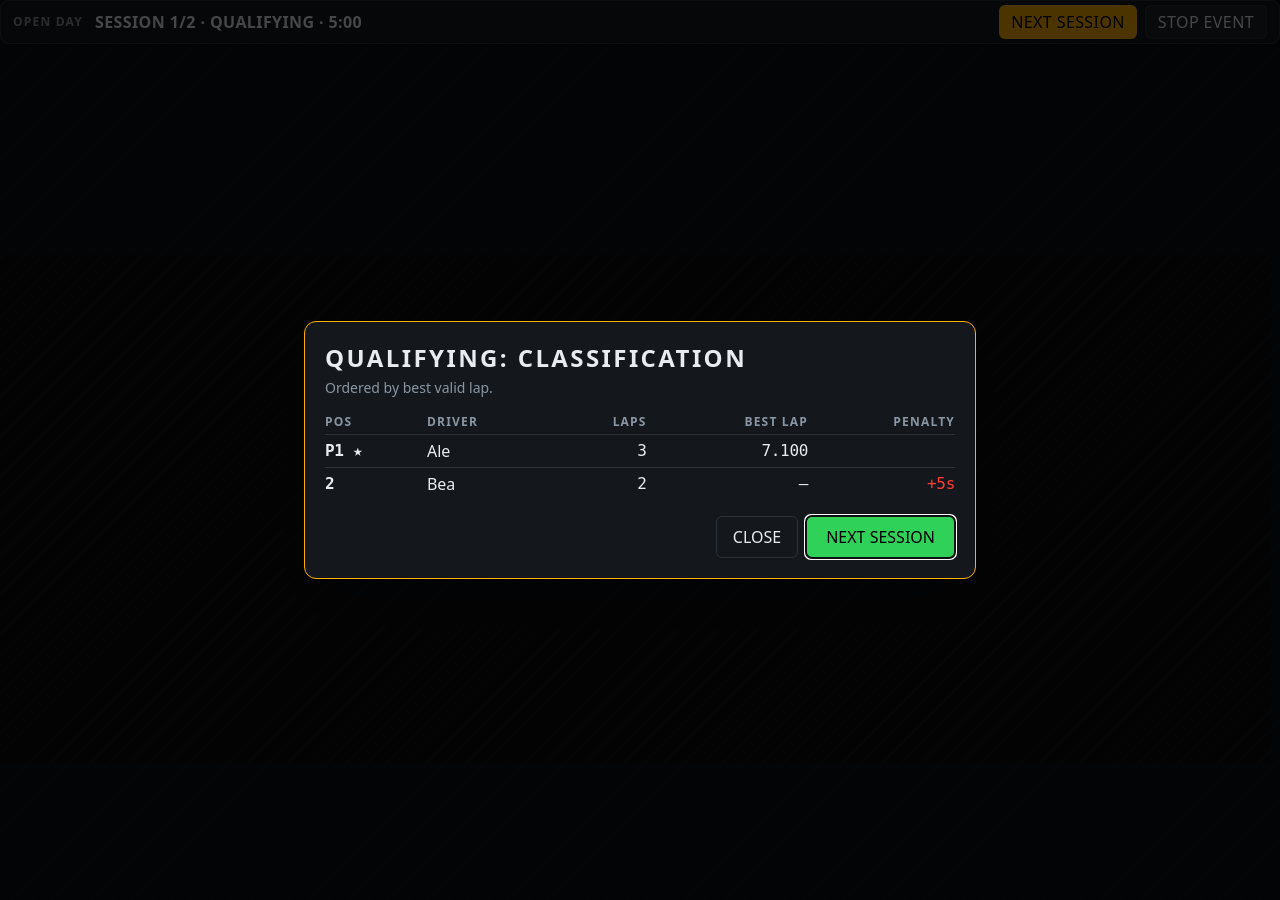
Test case: SessionBar › opens the classification modal on session_finished, then Next session advances
Expected: the table with test id "classification" shows "+5s", top-left (927, 474), bottom-right (955, 493)
Click the button with test id "result-next" at (881, 537), box top-left (806, 516), bottom-right (955, 558)
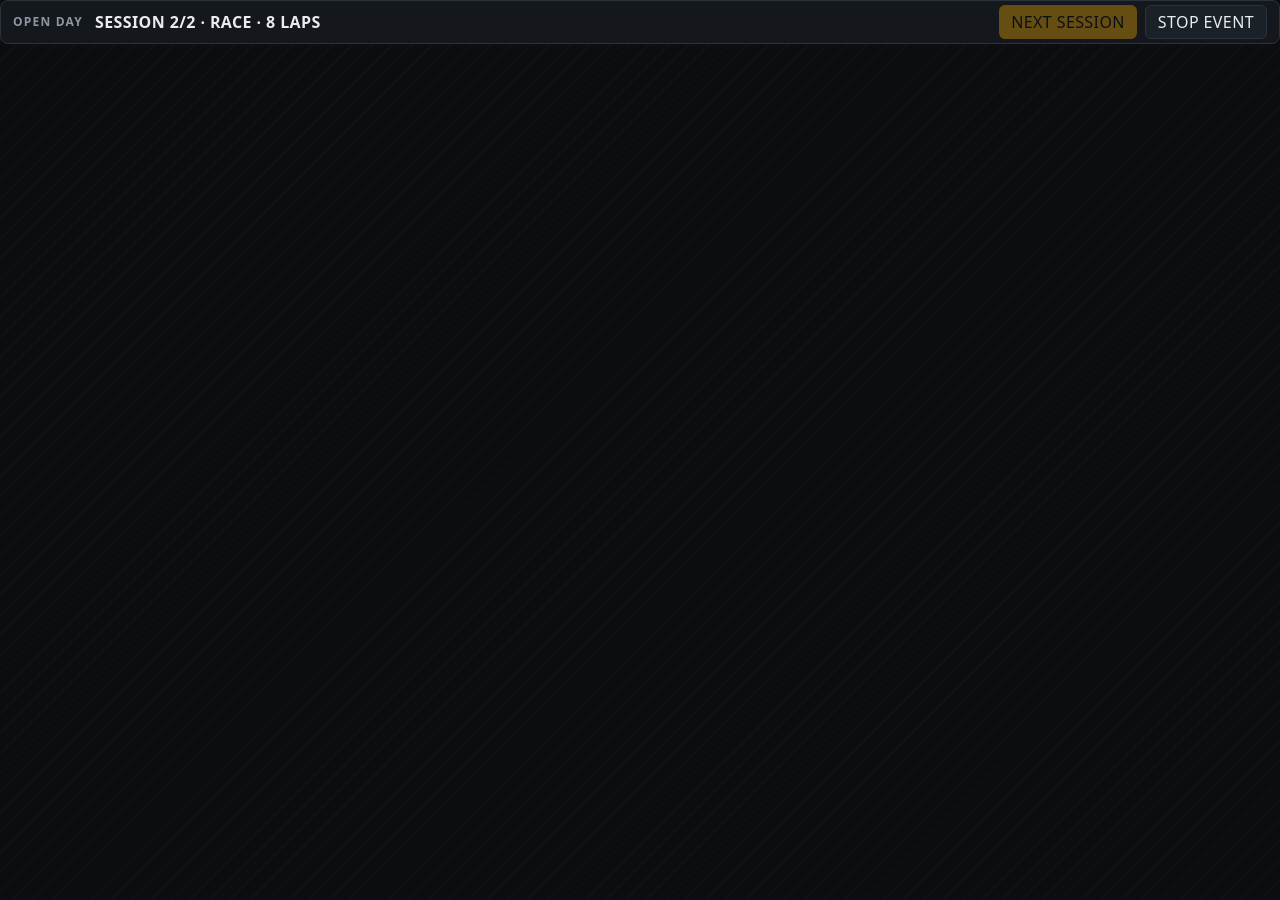
Result: the element with test id "session-result" is gone
